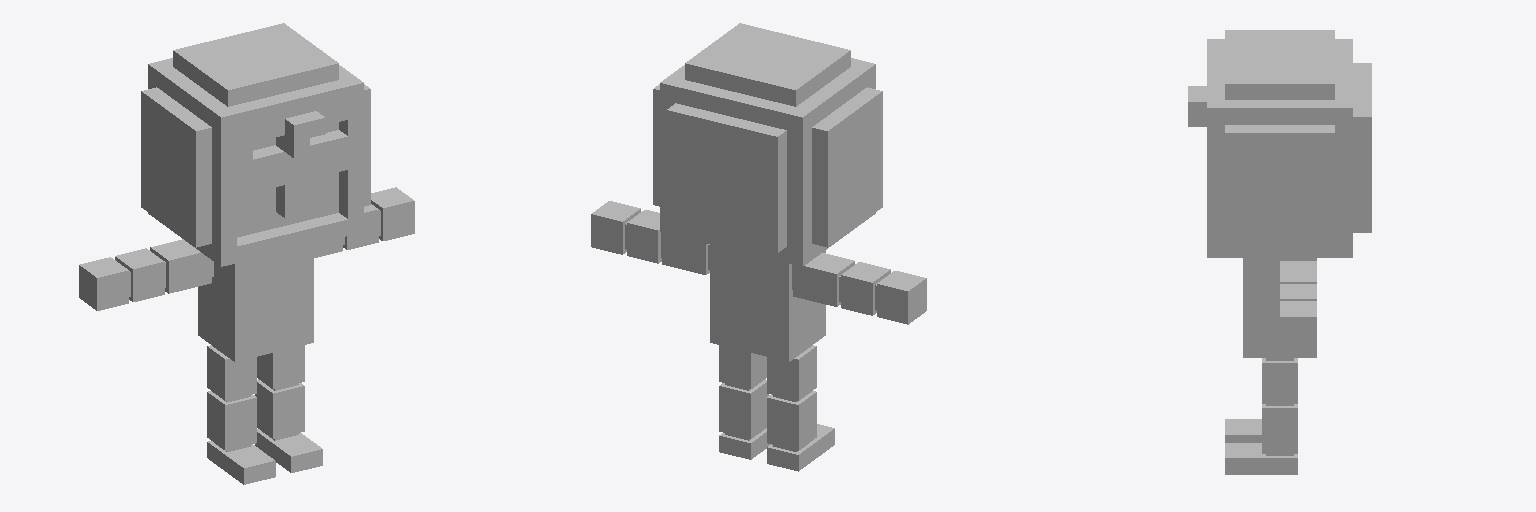
File: man.obj
3 renders of one model, left to right at view 1: azimuth 30°, elevation 25°; view 2: azimuth 150°, elevation 25°; view 3: azimuth 270°, elevation 25°, orthographic.
Visible parts, largest first — view 1: object 1; view 2: object 1; view 3: object 1.
Boxes of the visible parts, x1=… form: object 1: x1=79, y1=23, x2=414, y2=484; object 1: x1=591, y1=23, x2=926, y2=471; object 1: x1=1188, y1=30, x2=1371, y2=474.
Size of the model in its own units: 8 by 9.6 by 4.